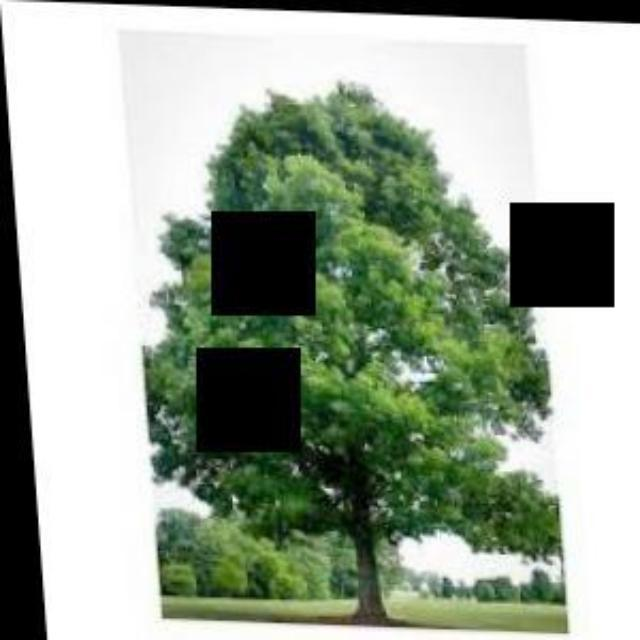tree: (122, 57, 548, 618)
